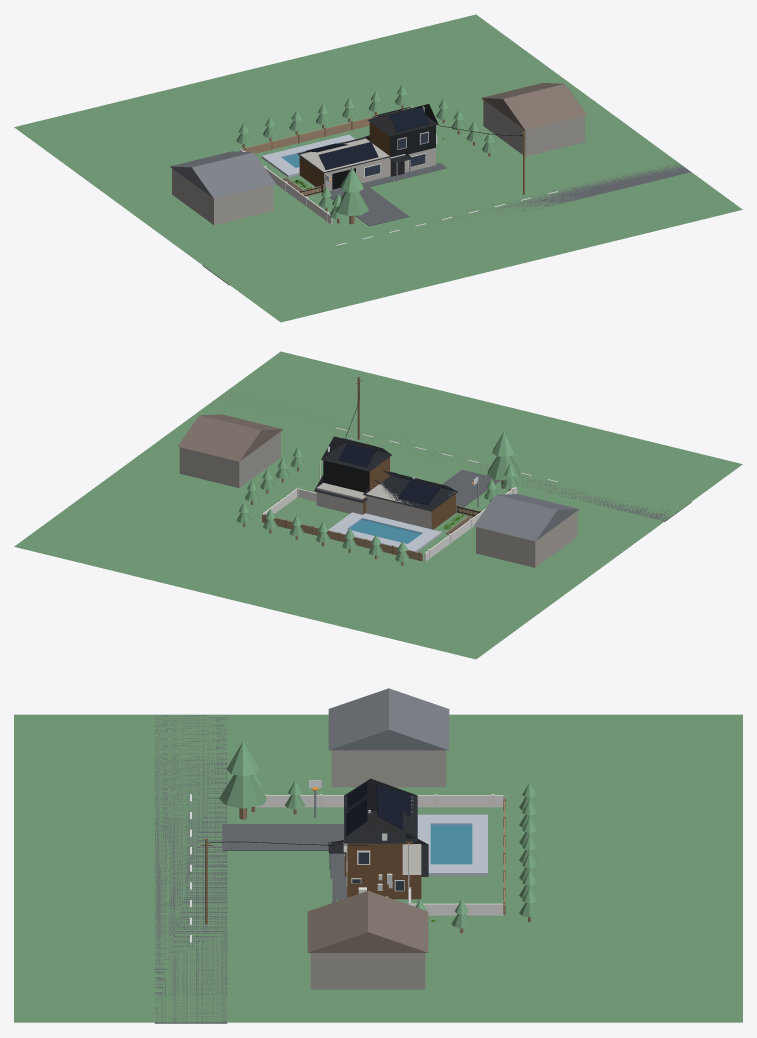
Rendered from house-v25.glb.
3 views of the same model, one above another, from view 1: azimuth 30°, elevation 25°; view 2: azimuth 150°, elevation 25°; view 3: azimuth 270°, elevation 25° (orthographic). The views are drawn at different scales.
Parts seen in each view (by area): view 1: Ground, Neighbor_East_Roof, Neighbor_West_Roof, Neighbor_West, Neighbor_East, Street, House_Garage, House_MainUpper, Driveway, Fence_Rear, Tree_Street, PoolDeck (+3 smaller); view 2: Ground, Neighbor_West_Roof, Neighbor_East_Roof, Neighbor_East, Neighbor_West, House_Garage, PoolDeck, House_MainUpper, Roof_Garage, Street, House_MainBase, Driveway (+7 smaller); view 3: Ground, Street, Neighbor_West_Roof, Neighbor_East_Roof, Neighbor_East, Neighbor_West, Driveway, PoolDeck, House_MainUpper, Fence_West, House_MainBase, Tree_Street (+6 smaller).
Part boxes in pixels (bbox=[...]): Ground: bbox=[14, 14, 742, 322]; Neighbor_East_Roof: bbox=[481, 83, 586, 130]; Neighbor_West_Roof: bbox=[170, 151, 275, 198]; Neighbor_West: bbox=[172, 168, 273, 225]; Neighbor_East: bbox=[483, 100, 584, 156]; Street: bbox=[202, 162, 690, 285]; House_Garage: bbox=[299, 138, 389, 190]; House_MainUpper: bbox=[369, 116, 435, 157]; Driveway: bbox=[329, 183, 408, 226]; Fence_Rear: bbox=[241, 110, 401, 153]; Tree_Street: bbox=[336, 167, 368, 224]; PoolDeck: bbox=[261, 134, 355, 177]; Ground: bbox=[14, 351, 742, 659]; Neighbor_West_Roof: bbox=[474, 494, 579, 541]; Neighbor_East_Roof: bbox=[177, 414, 282, 461]; Neighbor_East: bbox=[179, 431, 280, 487]; Neighbor_West: bbox=[476, 511, 577, 567]; House_Garage: bbox=[365, 483, 455, 529]; PoolDeck: bbox=[328, 512, 441, 551]; House_MainUpper: bbox=[323, 457, 389, 492]; Roof_Garage: bbox=[363, 470, 457, 511]; Street: bbox=[220, 392, 691, 521]; House_MainBase: bbox=[316, 482, 365, 514]; Driveway: bbox=[442, 469, 500, 518]; Ground: bbox=[14, 714, 742, 1022]; Street: bbox=[154, 715, 227, 1023]; Neighbor_West_Roof: bbox=[328, 688, 449, 750]; Neighbor_East_Roof: bbox=[307, 891, 428, 952]; Neighbor_East: bbox=[310, 953, 425, 989]; Neighbor_West: bbox=[331, 750, 446, 787]; Driveway: bbox=[222, 824, 343, 850]; PoolDeck: bbox=[417, 814, 487, 875]; House_MainUpper: bbox=[347, 812, 402, 874]; Fence_West: bbox=[255, 794, 503, 807]; House_MainBase: bbox=[347, 844, 421, 899]; Tree_Street: bbox=[219, 741, 266, 819].
Size of the model in its own units: 70 by 10.08 by 70.
